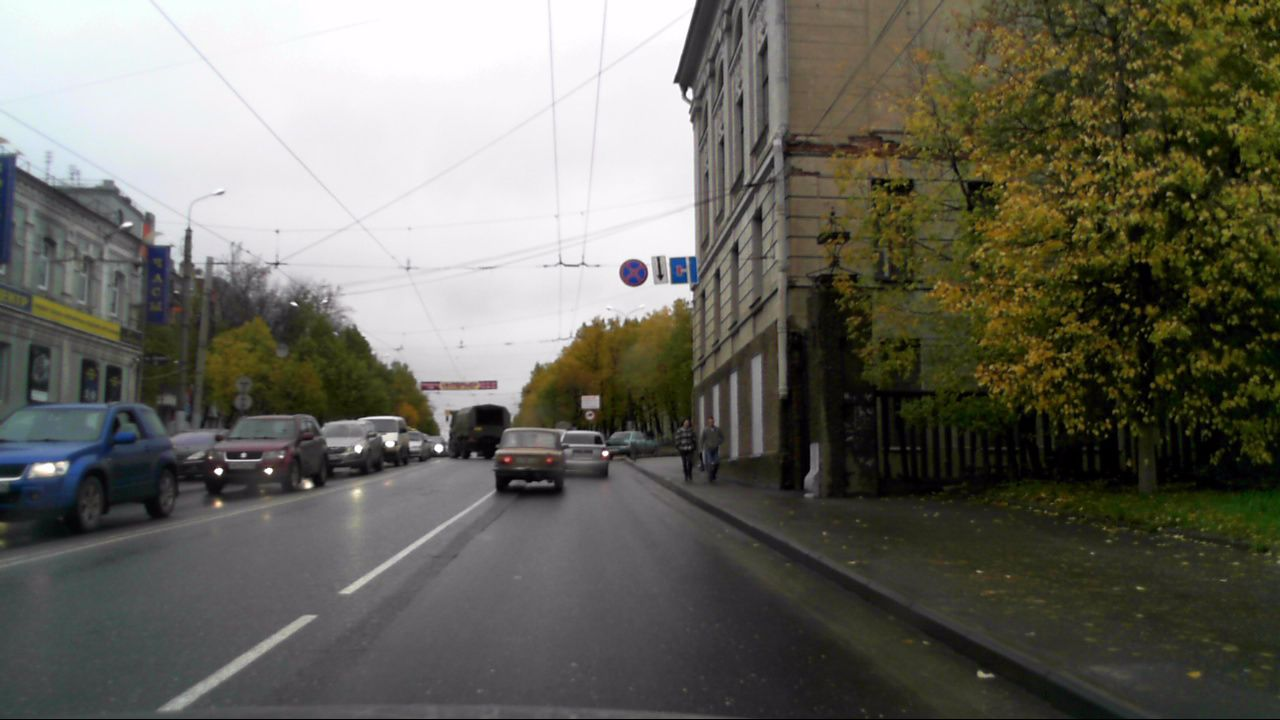No Parking: (619, 259, 648, 287)
